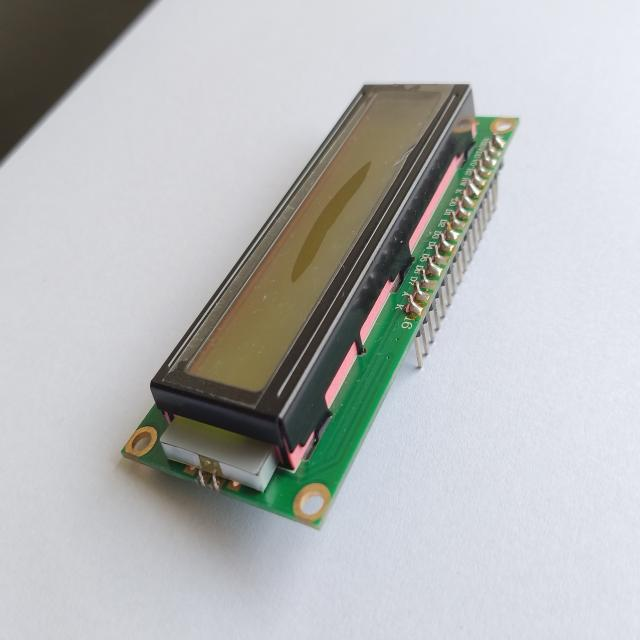lcd: (115, 73, 532, 547)
